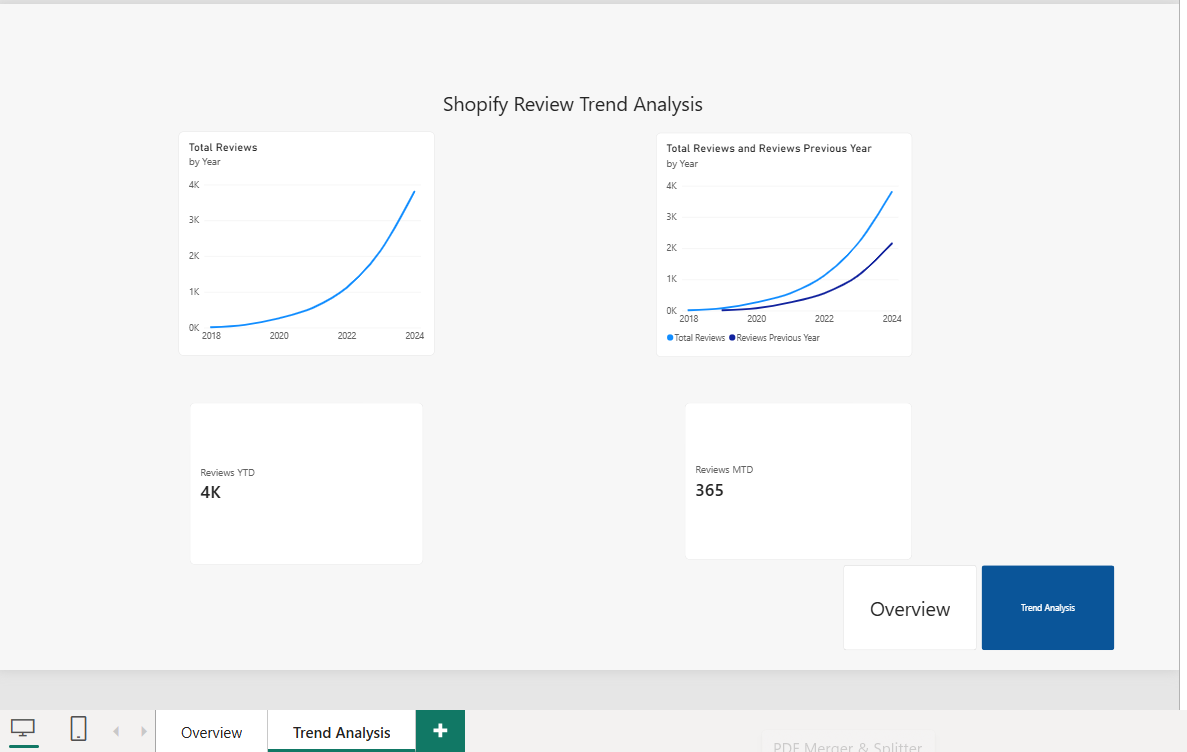

What the dashboard file says about the page in this screenshot:
{"tool":"powerbi","page":{"name":"Trend Analysis","canvas":[1920,1080],"ordinal":1},"visuals":[{"type":"pageNavigator","box":[1376.1,911.3,440.4,138],"z":0},{"type":"lineChart","fields":{"Category":["dim_date.Date.Variation.Date Hierarchy.Year","dim_date.Date.Variation.Date Hierarchy.Quarter","dim_date.Date.Variation.Date Hierarchy.Month","dim_date.Date.Variation.Date Hierarchy.Day"],"Y":["apps.Total Reviews"]},"box":[296.3,207,416.2,363.7],"z":1000},{"type":"lineChart","fields":{"Category":["dim_date.Date.Variation.Date Hierarchy.Year","dim_date.Date.Variation.Date Hierarchy.Quarter","dim_date.Date.Variation.Date Hierarchy.Month","dim_date.Date.Variation.Date Hierarchy.Day"],"Y":["apps.Total Reviews","apps.Reviews Previous Year"]},"box":[1071.6,209,416,364],"z":2000},{"type":"cardVisual","fields":{"Data":["apps.Reviews YTD"]},"box":[314.6,647.4,379.5,263.8],"z":3000},{"type":"cardVisual","fields":{"Data":["apps.Reviews MTD"]},"box":[1118.3,647.4,369.4,255.7],"z":4000},{"type":"textbox","box":[56.8,140,1759.7,67],"z":5000},{"type":"textbox","box":[57,647,258,264],"z":6000},{"type":"textbox","box":[1770,647,150,264],"z":7000}]}

Visuals, with their boxes on the page's 1920x1080 design canvas (x1, y1, x2, y2). These are canvas units, not pixel positions in the 1187x752 screenshot, which may show the page scaled, cropped or inside an application window:
pageNavigator: 1376,911,1816,1049
lineChart - dim_date.Date.Variation.Date Hierarchy.Year x dim_date.Date.Variation.Date Hierarchy.Quarter: 296,207,712,571
lineChart - dim_date.Date.Variation.Date Hierarchy.Year x dim_date.Date.Variation.Date Hierarchy.Quarter: 1072,209,1488,573
cardVisual - apps.Reviews YTD: 315,647,694,911
cardVisual - apps.Reviews MTD: 1118,647,1488,903
textbox: 57,140,1816,207
textbox: 57,647,315,911
textbox: 1770,647,1920,911
